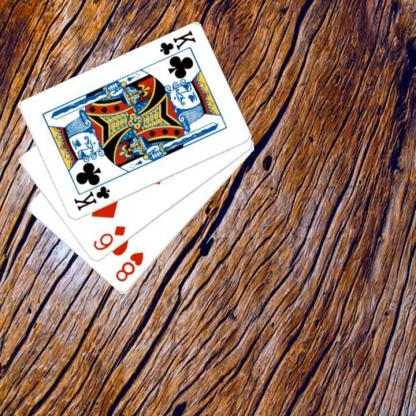6D: (90, 223, 127, 253)
8H: (113, 250, 145, 284)
KC: (157, 28, 197, 64), (71, 178, 111, 212)
